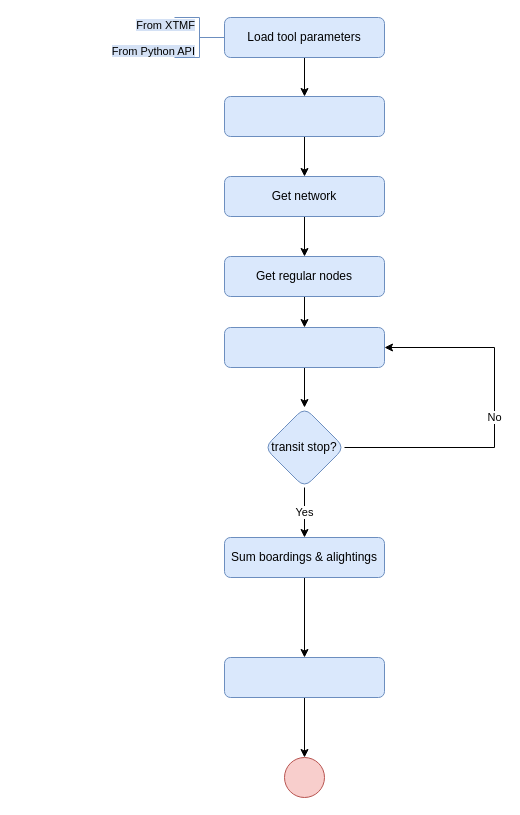
Some shapes in this 520 by 815 pixel diagram are drawn without their labels. The shapes that lost their labels are listed below. From the top down, each one's centre as x and y in pixels, then its label:
At point (304, 116): "load scenario".
At point (304, 347): "Load node from input file".
At point (304, 677): "Write to output file".
